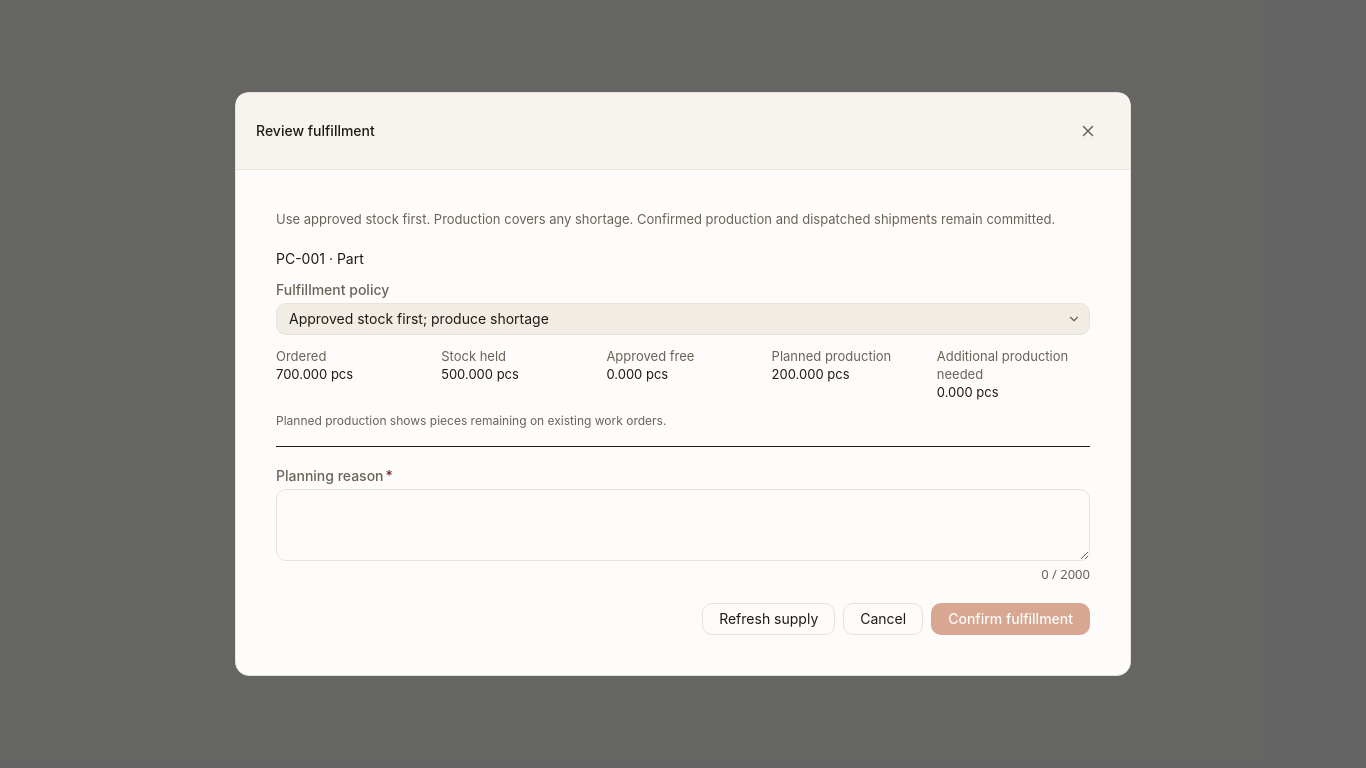
Test: separates existing planned production from additional production needed
Expected: the text "200.000 pcs" is shown, [772,366,850,382]
Expected: the text "0.000 pcs" below "Additional production needed" is shown, [937,384,999,400]
Select "Fresh production" in the dropdown labelled "Fulfillment policy": (683,319) [277,304,1089,334]
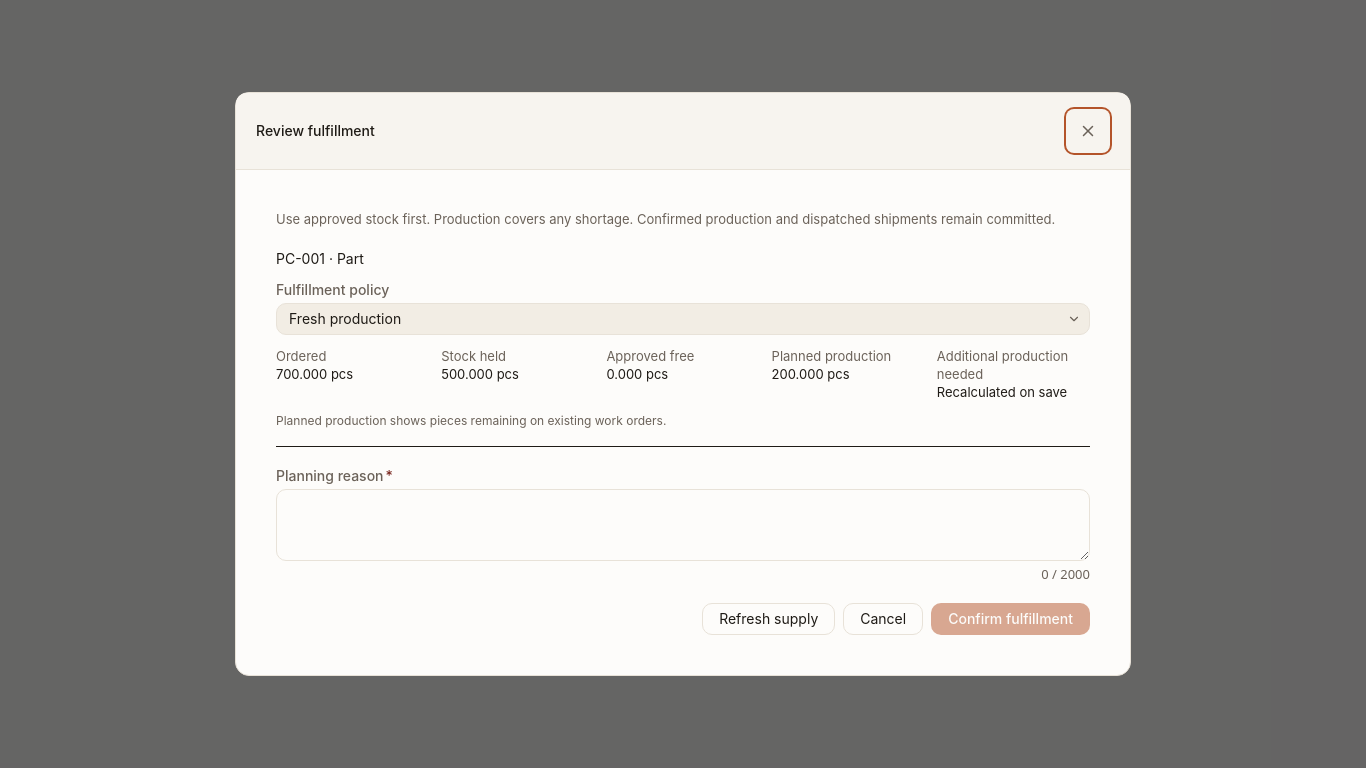
Expected: the text "Recalculated on save" is shown, [937,383,1090,402]
